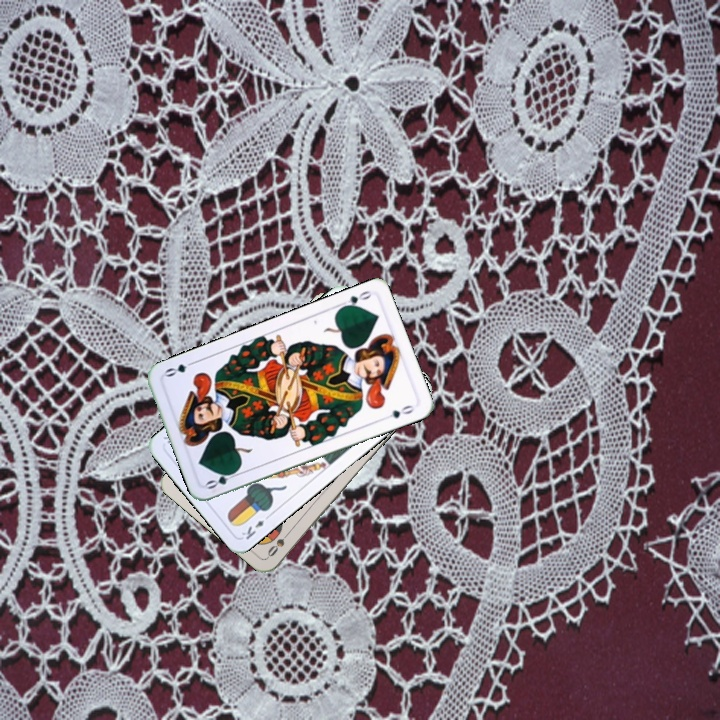EK: (237, 510, 273, 542)
GO: (202, 466, 242, 492), (335, 286, 374, 312)
SO: (263, 526, 294, 560)
